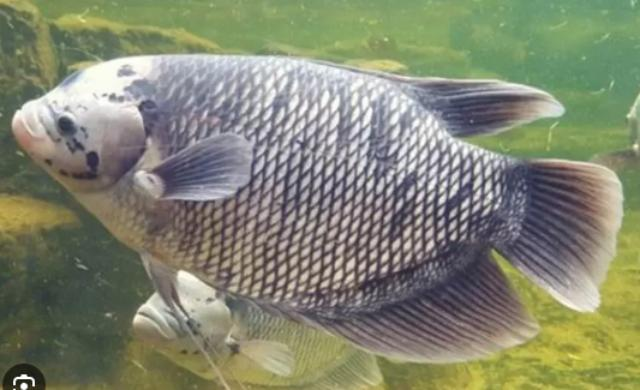Mulut: (0, 76, 66, 172)
Sirip Anal: (260, 238, 556, 386)
Sirip Dada: (115, 117, 273, 235)
Sirip Ekor: (477, 127, 639, 329)
Sirip Perut: (123, 239, 269, 390)
Sirip Punggung: (298, 47, 580, 157)
